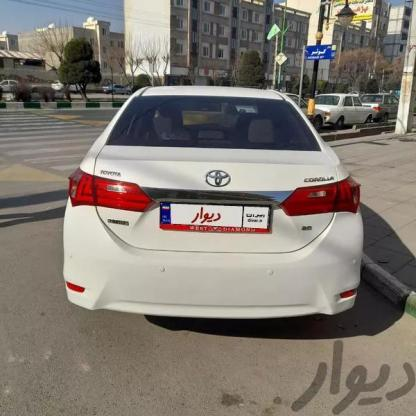Car: (52, 83, 370, 326), (304, 94, 374, 128), (357, 92, 404, 121), (0, 80, 28, 93), (102, 83, 132, 93)
